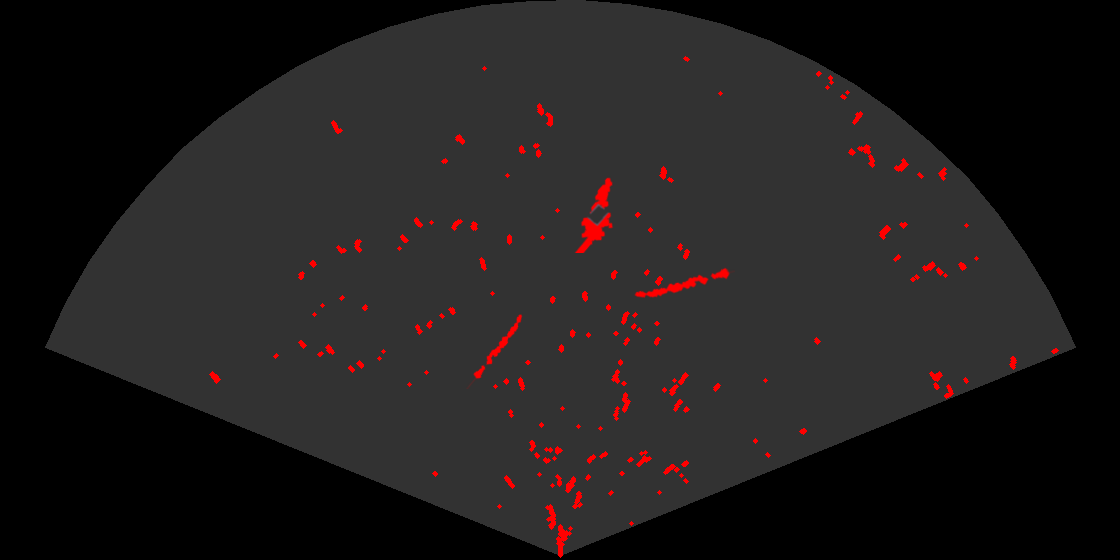chain: (466, 313, 524, 389), (633, 266, 735, 300)
frogman: (573, 176, 615, 253)
